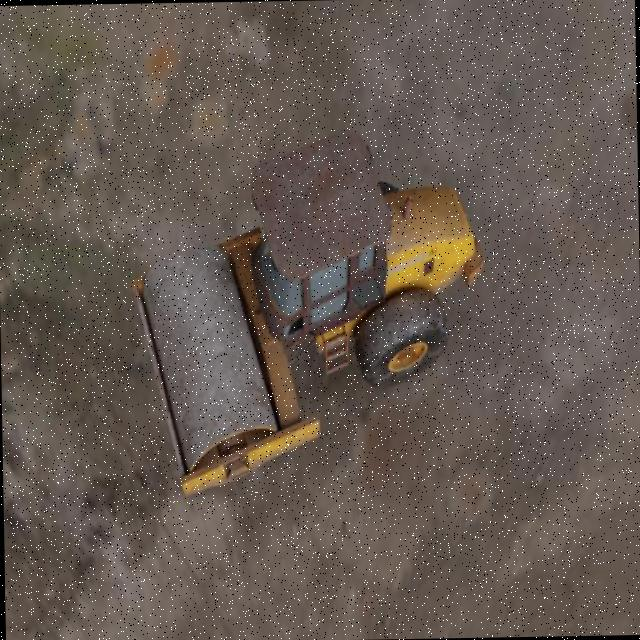Roller: (128, 123, 488, 496)
